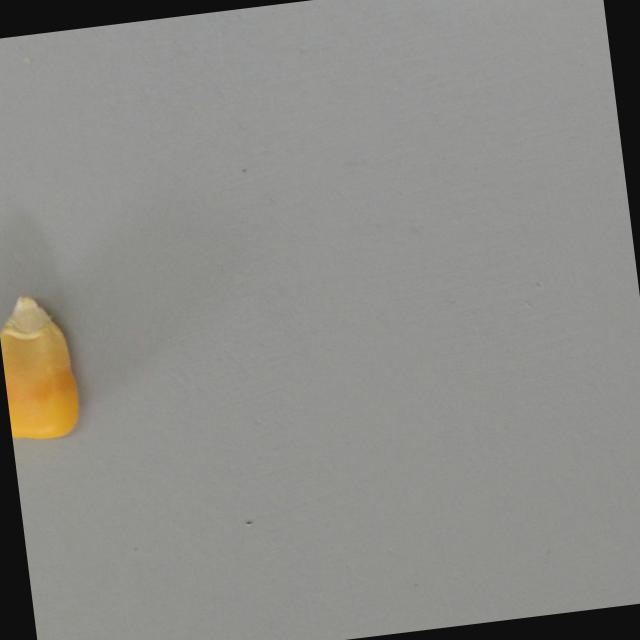entero: (0, 263, 109, 471)
